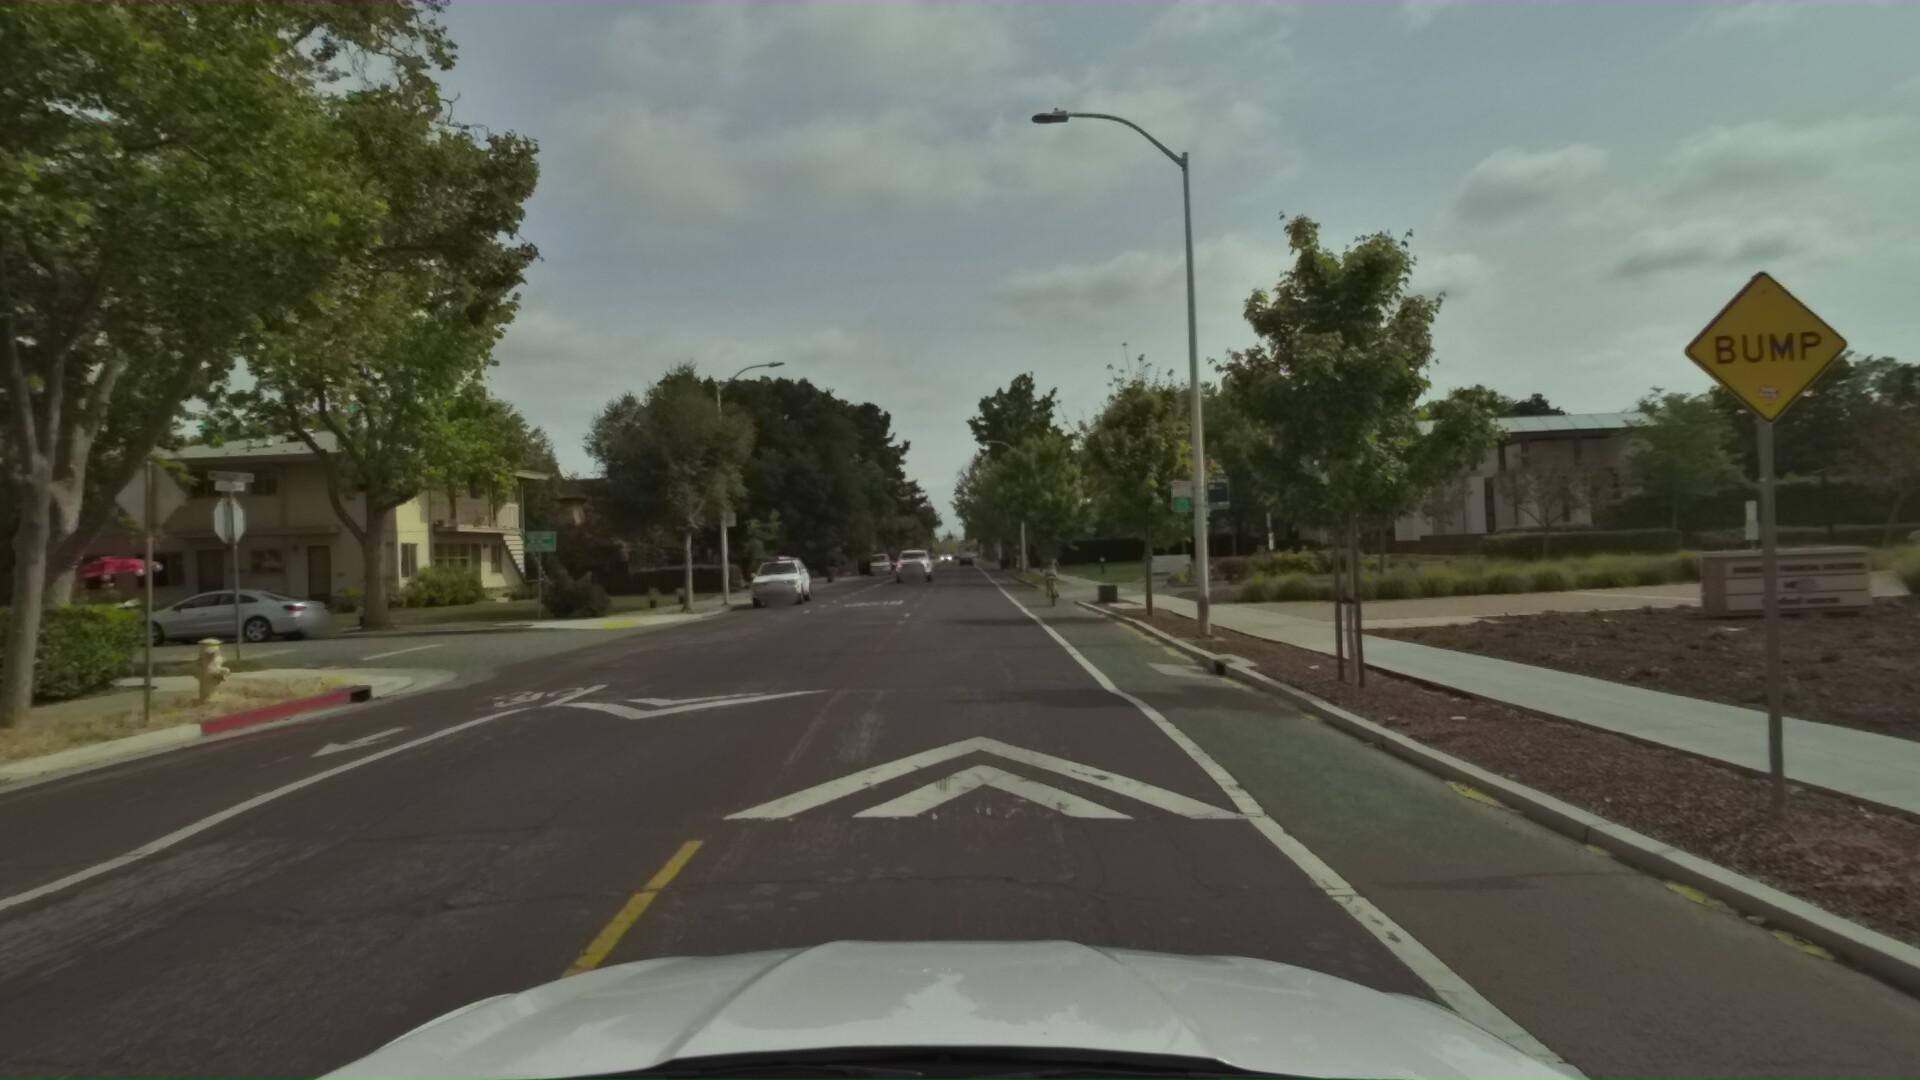bicycle: (1023, 545, 1065, 608)
car: (109, 585, 342, 654), (741, 553, 814, 612), (891, 543, 934, 585)
